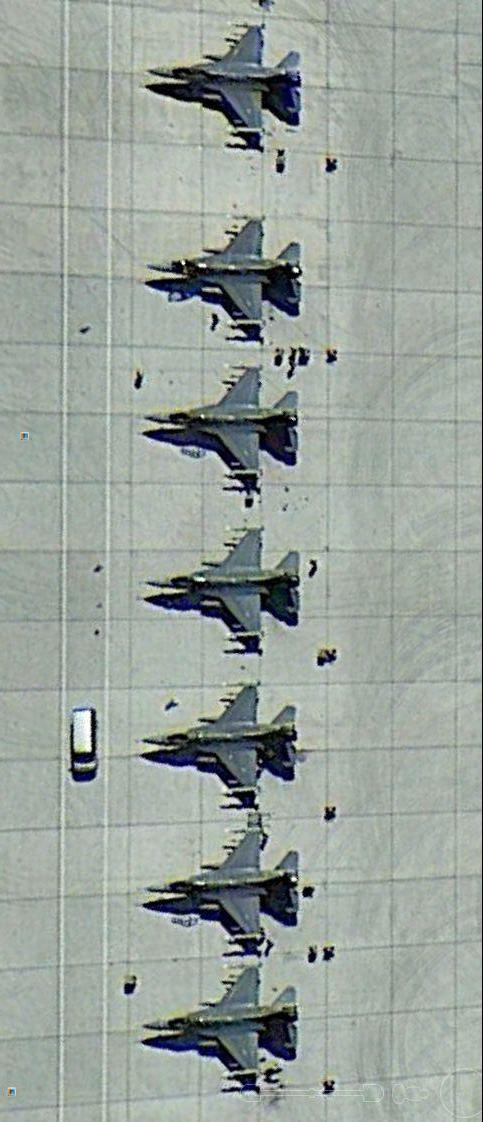F-16: (140, 365, 303, 482), (138, 967, 301, 1082), (147, 21, 308, 137), (143, 529, 304, 644), (142, 830, 301, 942), (141, 688, 302, 796), (149, 221, 308, 326)
